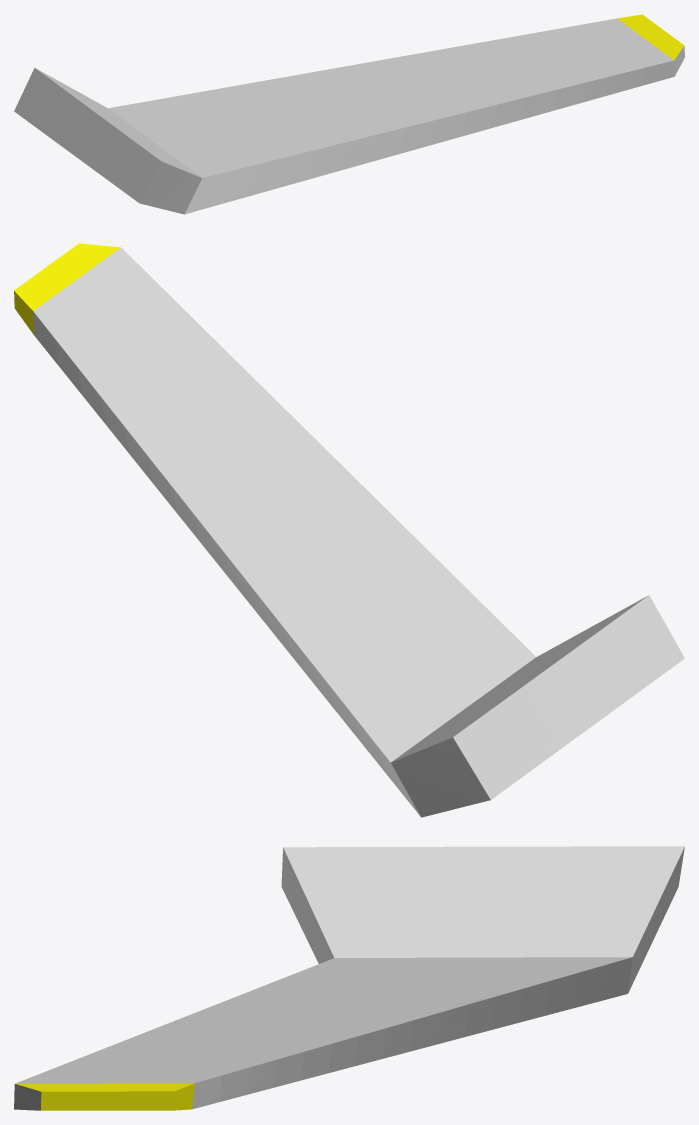
Rendered from SpaceShipRWingBroke.fbx.
The picture shows the model from 3 angles, top to bottom: view 1: azimuth 30°, elevation 25°; view 2: azimuth 150°, elevation 25°; view 3: azimuth 270°, elevation 25°; orthographic projection. The views are drawn at different scales.
Parts seen in each view (by area): view 1: RWing, RWing_cell.042, RWing_cell.009, RWing_cell.063, RWing_cell.016, RWing_cell.038, RWing_cell.046, RWing_cell.026, RWing_cell.002, RWing_cell.011, RWing_cell.021, RWing_cell.024 (+4 smaller); view 2: RWing, RWing_cell.042, RWing_cell.038, RWing_cell.009, RWing_cell.046, RWing_cell.011, RWing_cell.008, RWing_cell.026, RWing_cell.021, RWing_cell.024, RWing_cell.032, RWing_cell.002 (+2 smaller); view 3: RWing, RWing_cell.024, RWing_cell.018, RWing_cell.042, RWing_cell.011, RWing_cell.020, RWing_cell.038, RWing_cell.046, RWing_cell.009, RWing_cell.026, RWing_cell.008, RWing_cell.032 (+7 smaller).
Part boxes in pixels (x1=…): RWing: x1=15, y1=18, x2=684, y2=214; RWing_cell.042: x1=291, y1=101, x2=447, y2=171; RWing_cell.009: x1=446, y1=65, x2=610, y2=125; RWing_cell.063: x1=245, y1=130, x2=337, y2=196; RWing_cell.016: x1=174, y1=154, x2=248, y2=213; RWing_cell.038: x1=69, y1=109, x2=137, y2=176; RWing_cell.046: x1=305, y1=49, x2=454, y2=110; RWing_cell.026: x1=116, y1=137, x2=184, y2=211; RWing_cell.002: x1=623, y1=42, x2=684, y2=86; RWing_cell.011: x1=104, y1=97, x2=170, y2=142; RWing_cell.021: x1=601, y1=14, x2=663, y2=42; RWing_cell.024: x1=134, y1=137, x2=229, y2=172; RWing: x1=14, y1=249, x2=672, y2=817; RWing_cell.042: x1=305, y1=446, x2=417, y2=586; RWing_cell.038: x1=529, y1=632, x2=629, y2=745; RWing_cell.009: x1=159, y1=303, x2=315, y2=446; RWing_cell.046: x1=151, y1=441, x2=316, y2=603; RWing_cell.011: x1=332, y1=694, x2=460, y2=808; RWing_cell.008: x1=394, y1=738, x2=495, y2=816; RWing_cell.026: x1=573, y1=596, x2=684, y2=697; RWing_cell.021: x1=14, y1=267, x2=86, y2=338; RWing_cell.024: x1=447, y1=637, x2=577, y2=708; RWing_cell.032: x1=264, y1=567, x2=469, y2=714; RWing_cell.002: x1=71, y1=243, x2=146, y2=274; RWing: x1=14, y1=846, x2=684, y2=1110; RWing_cell.024: x1=356, y1=864, x2=479, y2=969; RWing_cell.018: x1=613, y1=846, x2=684, y2=913; RWing_cell.042: x1=176, y1=988, x2=372, y2=1024; RWing_cell.011: x1=476, y1=933, x2=635, y2=1018; RWing_cell.020: x1=449, y1=846, x2=615, y2=958; RWing_cell.038: x1=389, y1=846, x2=480, y2=900; RWing_cell.046: x1=186, y1=1001, x2=458, y2=1072; RWing_cell.009: x1=59, y1=1023, x2=194, y2=1066; RWing_cell.026: x1=282, y1=847, x2=394, y2=963; RWing_cell.008: x1=603, y1=880, x2=677, y2=995; RWing_cell.032: x1=339, y1=962, x2=554, y2=1037.
Size of the model in its own units: 318 by 88.99 by 249.
